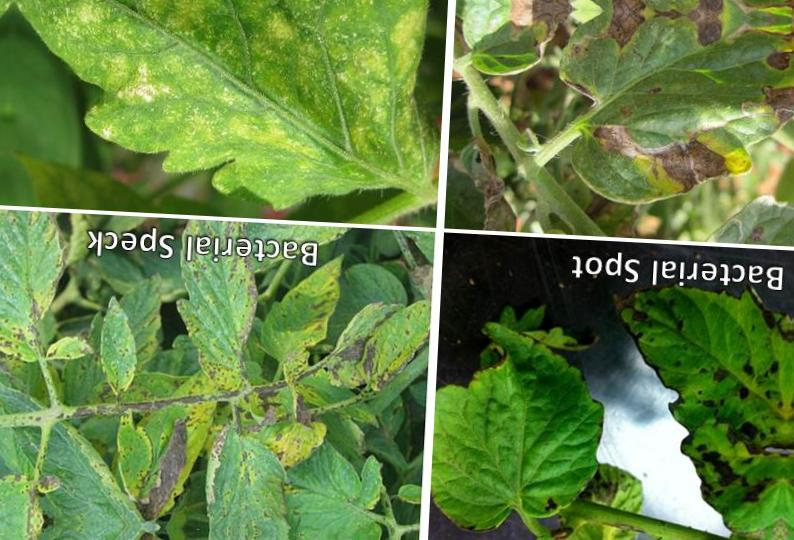Tomato Early blight leaf: (536, 7, 794, 219)
Tomato leaf bacterial spot: (597, 260, 794, 540), (428, 277, 620, 540), (0, 212, 102, 384), (178, 222, 271, 407), (196, 407, 318, 536), (256, 232, 348, 403), (259, 436, 408, 540), (321, 277, 421, 395), (107, 402, 166, 512)
